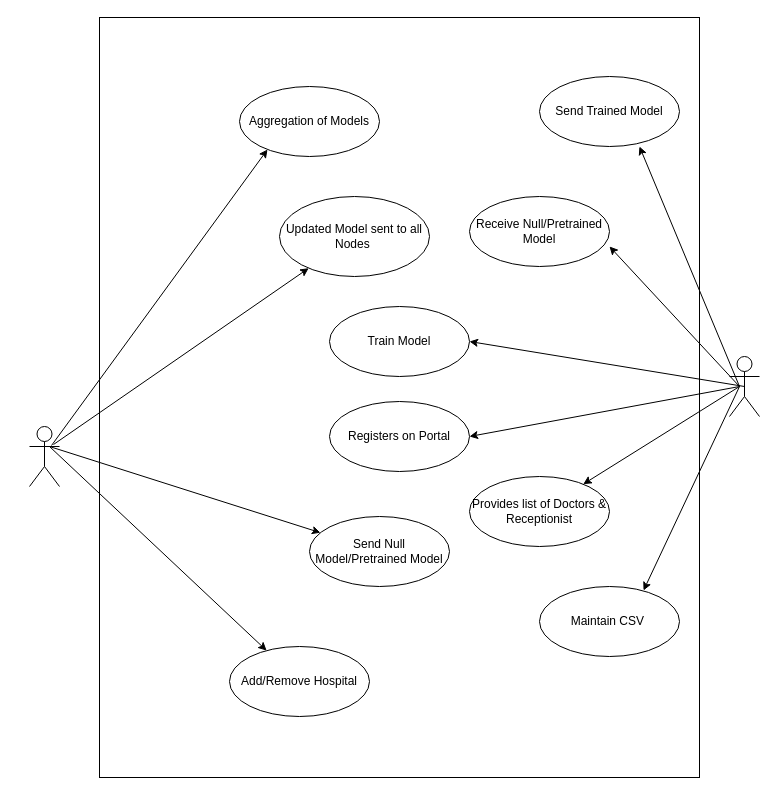
The diagram is 783 pixels wide and 795 high, and some of its shapes have lost their labels. Each missing label, with the centre of its shape:
"Hospital" belongs at [744,386].
"Superuser" belongs at [44,456].
